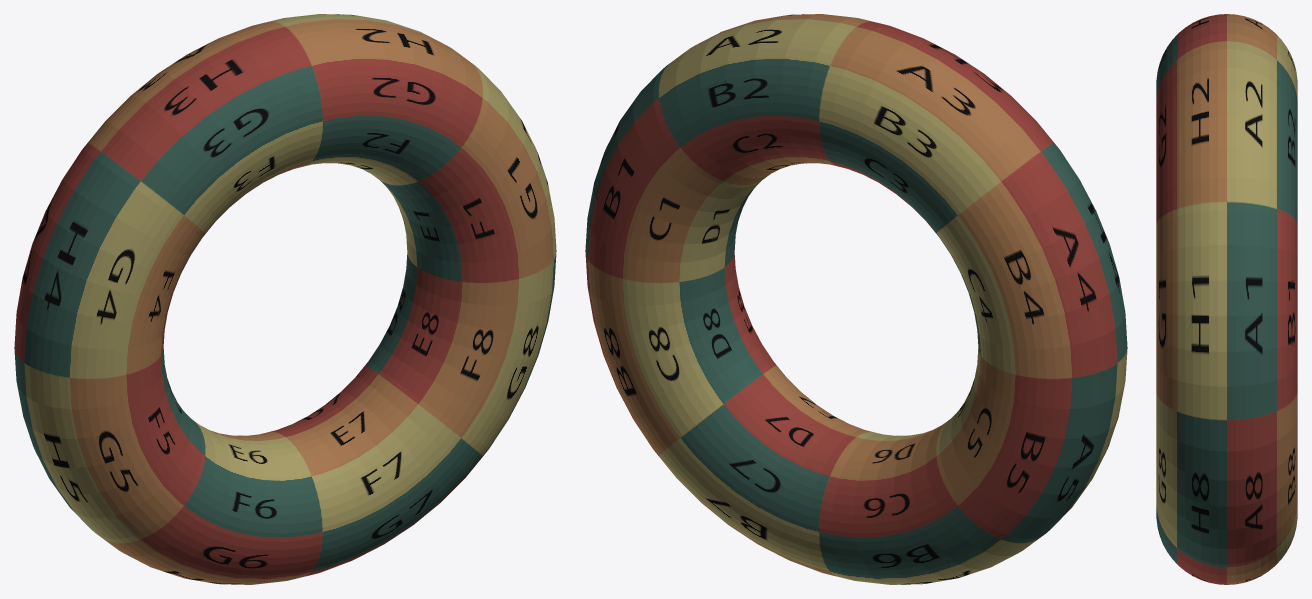
File: texture_torus_R16_r18.glb
3 renders of one model, left to right at view 1: azimuth 30°, elevation 25°; view 2: azimuth 150°, elevation 25°; view 3: azimuth 270°, elevation 25°, orthographic. The views are drawn at different scales.
Visible parts, largest first — view 1: world; view 2: world; view 3: world.
Boxes of the visible parts, bbox=[...] form: world: bbox=[14, 14, 556, 584]; world: bbox=[585, 14, 1127, 584]; world: bbox=[1156, 14, 1297, 584].
Bounding box in the file's own units: 27.47 × 27.41 × 6.79.
Materials: 1 (1 with a texture image).
